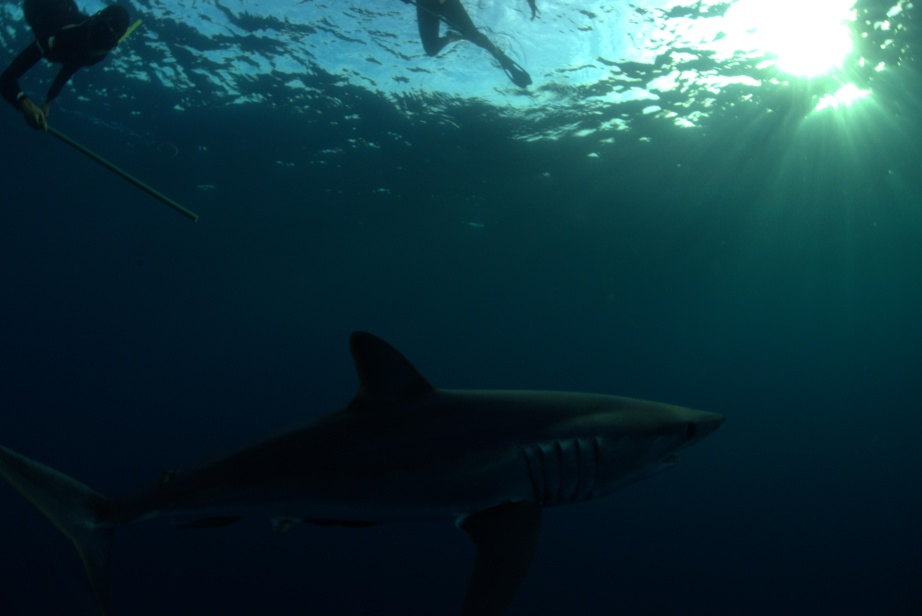Mako: (1, 311, 739, 602)
